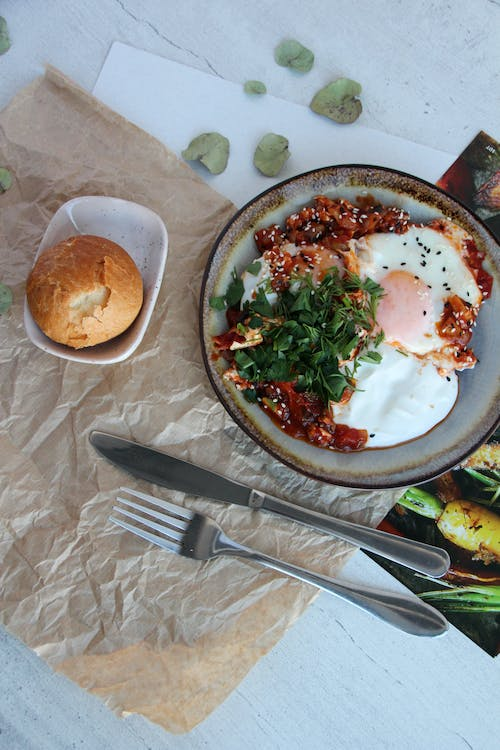knife: (86, 428, 452, 580)
